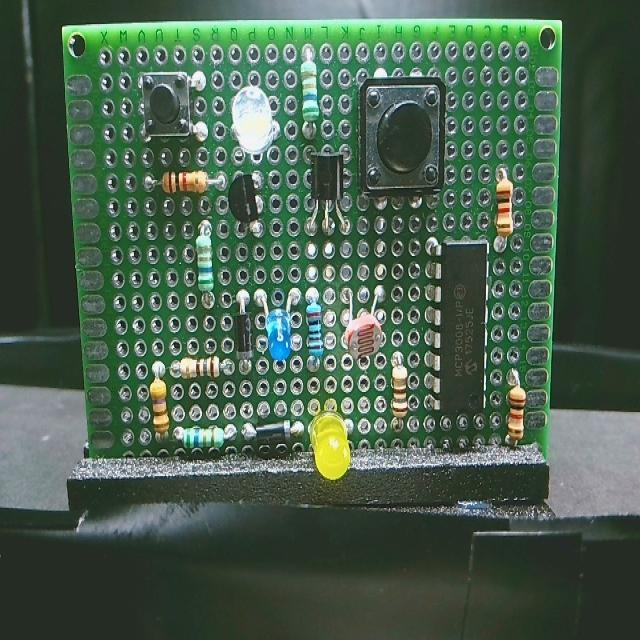IC: (424, 236, 494, 427)
cds: (340, 282, 389, 358)
diode: (236, 415, 310, 463), (230, 286, 254, 383)
led: (219, 82, 286, 165), (253, 284, 305, 377), (305, 402, 357, 489)
resistor: (294, 41, 326, 148), (299, 279, 329, 383), (189, 213, 220, 310), (143, 168, 228, 203), (170, 417, 238, 460), (147, 351, 173, 453), (501, 367, 529, 455), (166, 348, 234, 384), (494, 163, 518, 261), (384, 350, 412, 432)
switch: (352, 63, 450, 205), (137, 62, 209, 151)
transistor: (297, 152, 356, 243), (224, 166, 280, 230)
